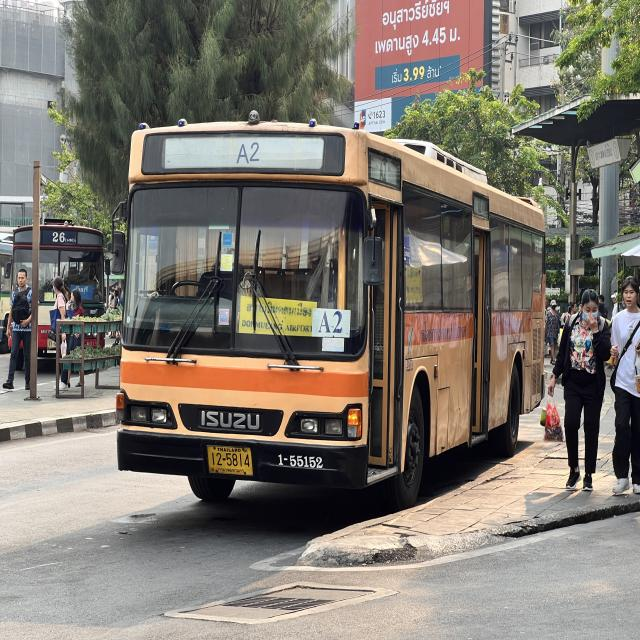BMTA-bus: (112, 106, 548, 511)
Bus-Line-Number: (229, 139, 266, 165)
Destination-Sign-Normal-Expressway: (240, 296, 318, 334)
